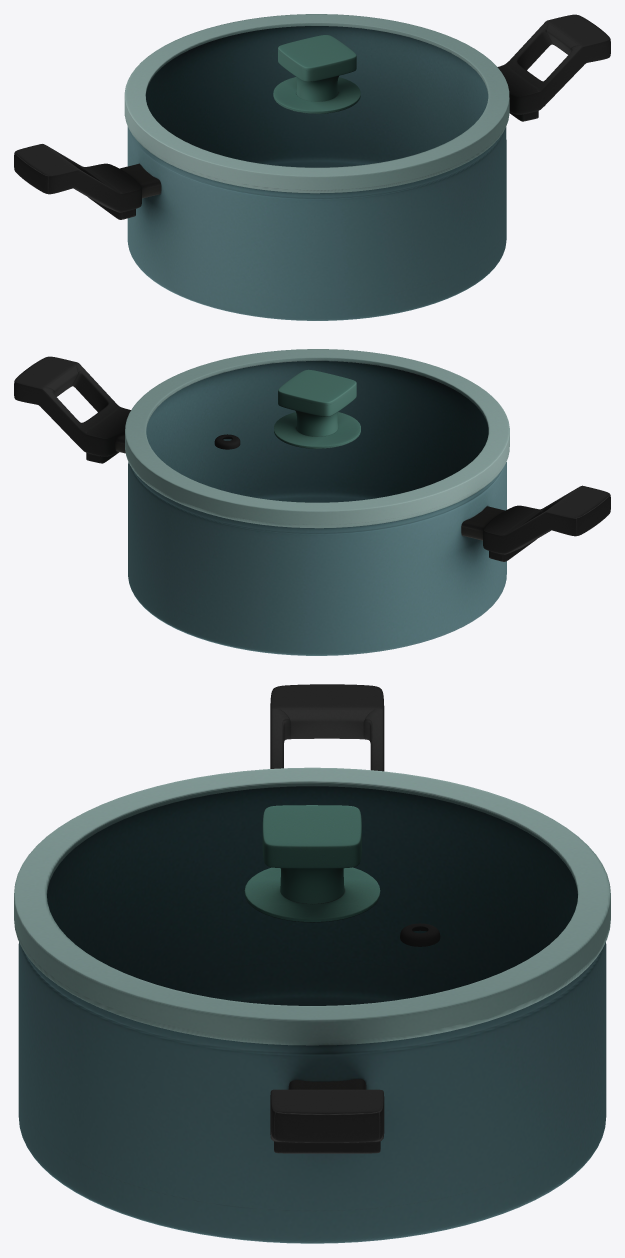
The model's file is POT3.glb.
3 renders of one model, top to bottom at view 1: azimuth 30°, elevation 25°; view 2: azimuth 150°, elevation 25°; view 3: azimuth 270°, elevation 25°, orthographic. The views are drawn at different scales.
Visible parts, largest first — view 1: polySurface19.010; view 2: polySurface19.010; view 3: polySurface19.010.
Part boxes in pixels (box(x1,y1,x2,y2)): polySurface19.010: box(14, 14, 610, 320); polySurface19.010: box(14, 349, 610, 655); polySurface19.010: box(14, 684, 610, 1243).
Size of the model in its own units: 0.4183 by 0.1351 by 0.2448.
3 materials, 1 textured.
